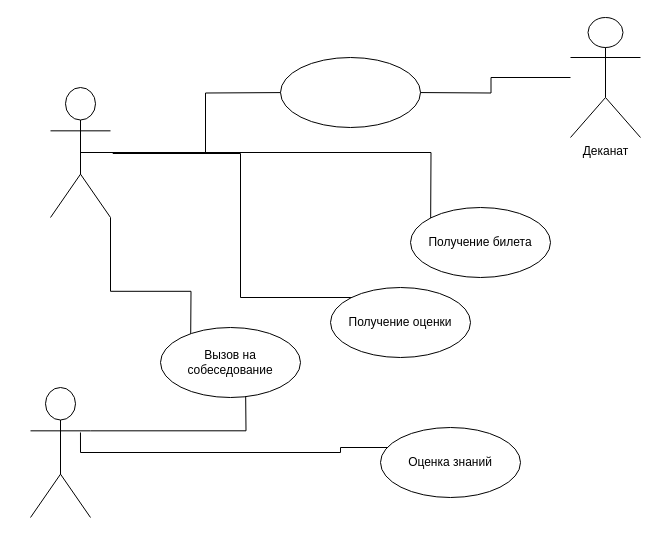
Some shapes in this 658 by 556 pixel diagram are drawn without their labels. Each missing label, with the centre of its shape:
"Допуск на экзамен" goes at point 350,92.
"Преподаватель" goes at point 60,452.
"Студент" goes at point 80,152.
